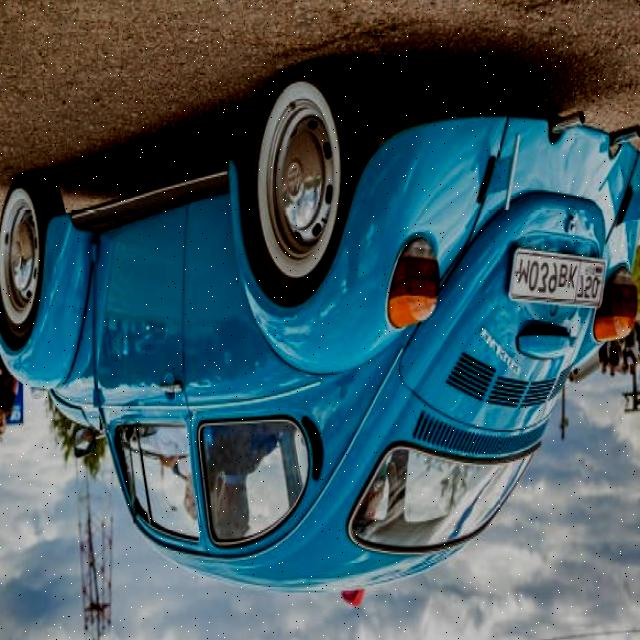car: (0, 93, 640, 594)
